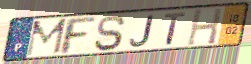F: (60, 16, 98, 56)
H: (185, 7, 225, 47)
J: (129, 14, 155, 48)
M: (23, 17, 68, 58)
S: (92, 14, 128, 53)
T: (162, 11, 188, 47)
